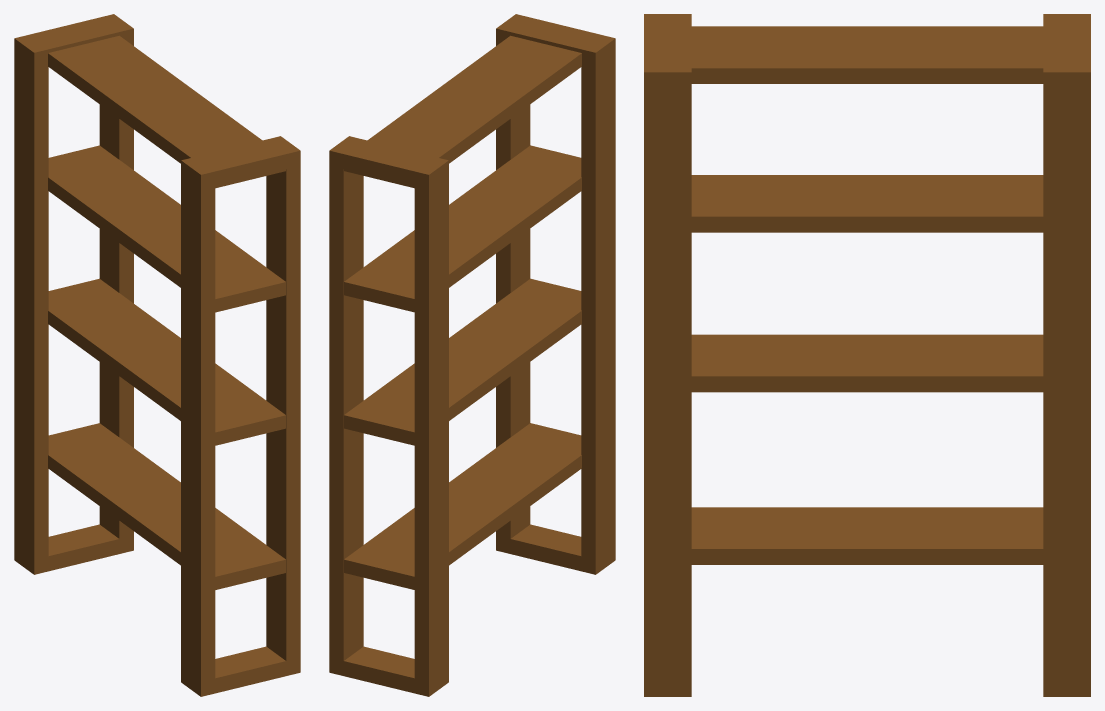
File: shelfladder.fbx
3 views of the same model, side by side, from view 1: azimuth 30°, elevation 25°; view 2: azimuth 150°, elevation 25°; view 3: azimuth 270°, elevation 25° (orthographic). The views are drawn at different scales.
Visible parts, largest first — view 1: Cube.056; view 2: Cube.056; view 3: Cube.056.
Boxes of the visible parts, left/top/right/bottom form: Cube.056: left=14, top=14, right=300, bottom=696; Cube.056: left=329, top=14, right=615, bottom=696; Cube.056: left=644, top=14, right=1090, bottom=696.
Size of the model in its own units: 359 by 1798 by 1165.
